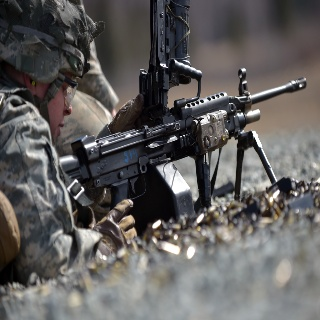rifle: (58, 65, 307, 190)
